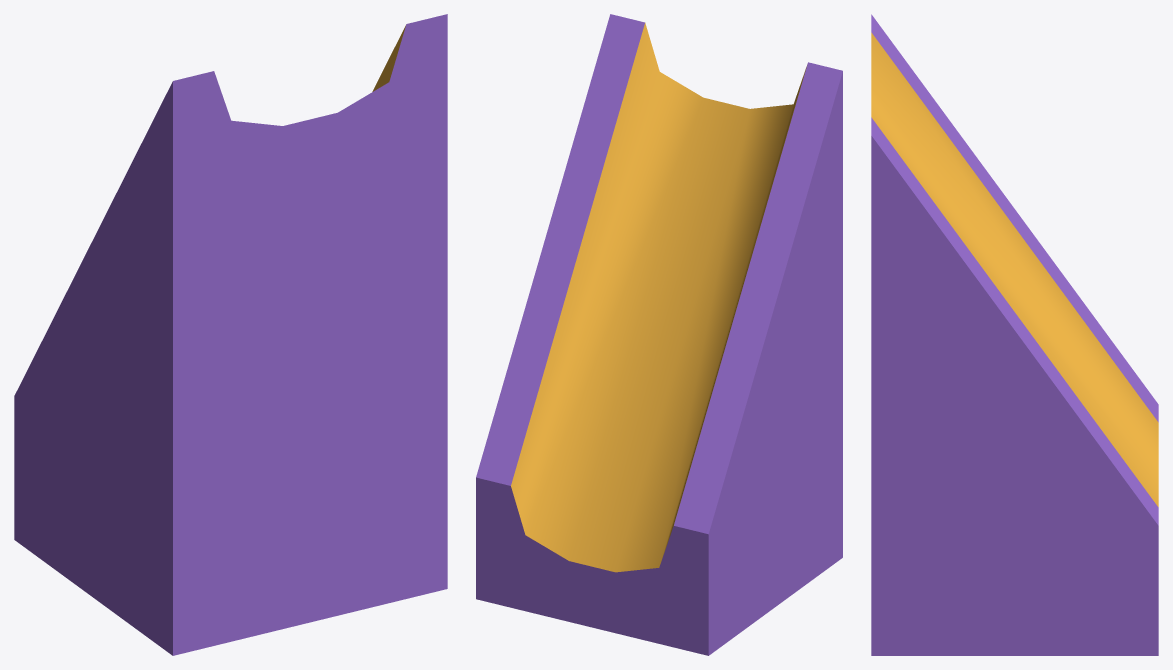
The model's file is kenney-marble-slant-solid-d.glb.
3 views of the same model, side by side, from view 1: azimuth 30°, elevation 25°; view 2: azimuth 150°, elevation 25°; view 3: azimuth 270°, elevation 25° (orthographic). The views are drawn at different scales.
Parts seen in each view (by area): view 1: slant-solid-d; view 2: slant-solid-d; view 3: slant-solid-d.
Boxes of the visible parts, left/top/right/bottom form: slant-solid-d: left=14, top=14, right=447, bottom=655; slant-solid-d: left=476, top=14, right=842, bottom=655; slant-solid-d: left=871, top=14, right=1158, bottom=655.
Size of the model in its own units: 1 by 2 by 1.
1 material, 1 textured.
